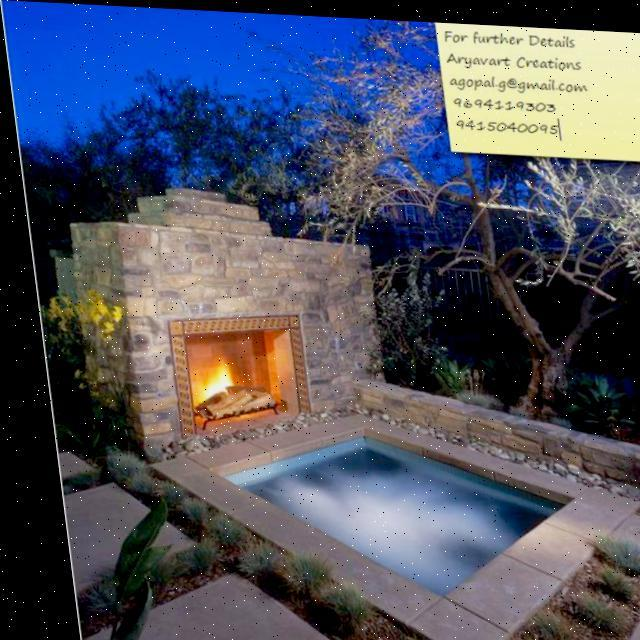Fire: (180, 355, 238, 403)
